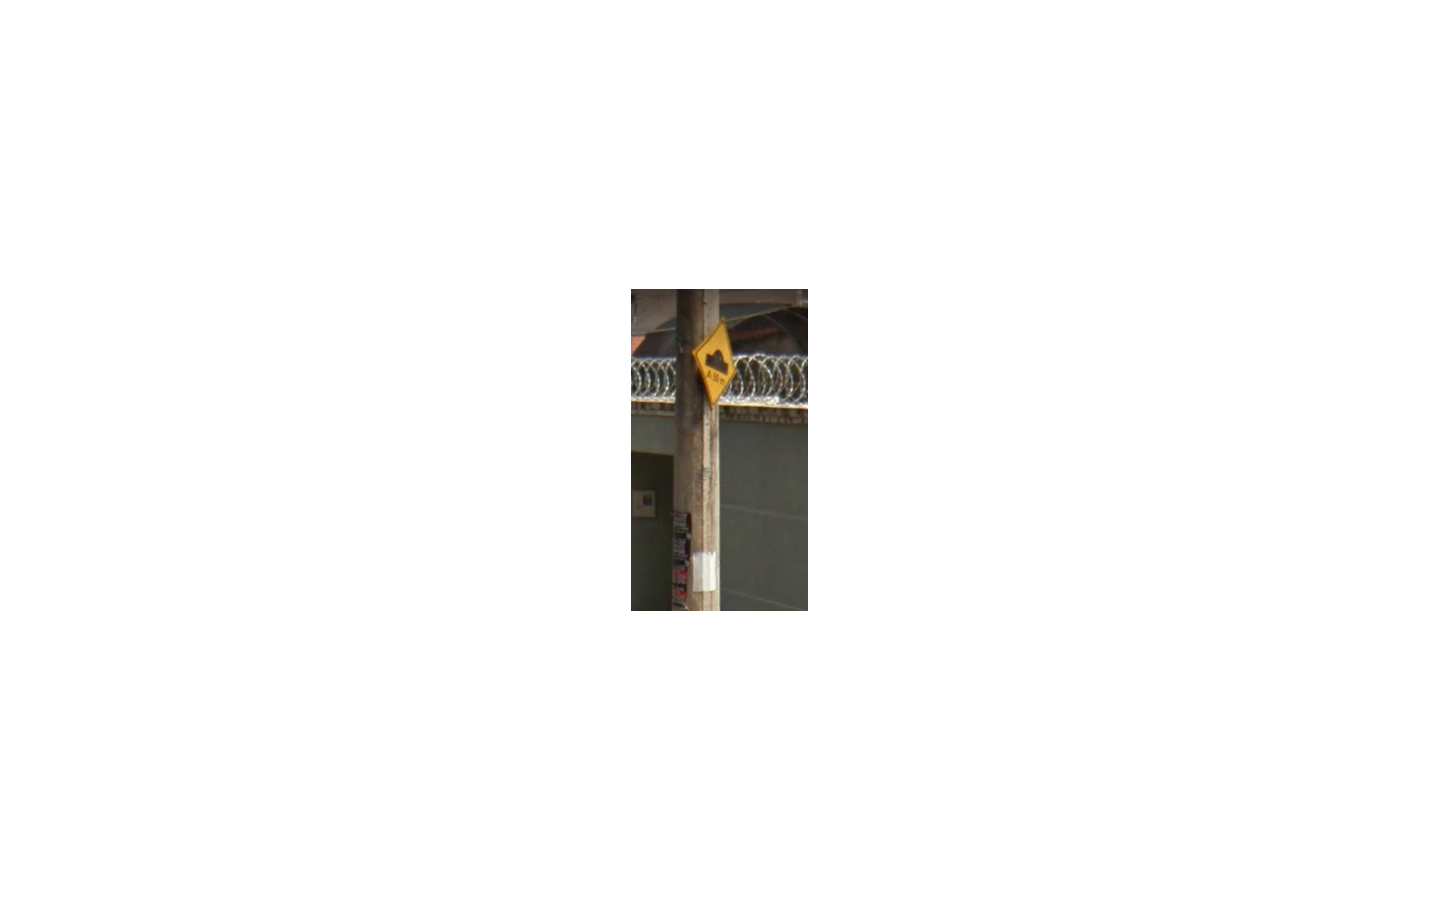l50m: (691, 317, 737, 409)
